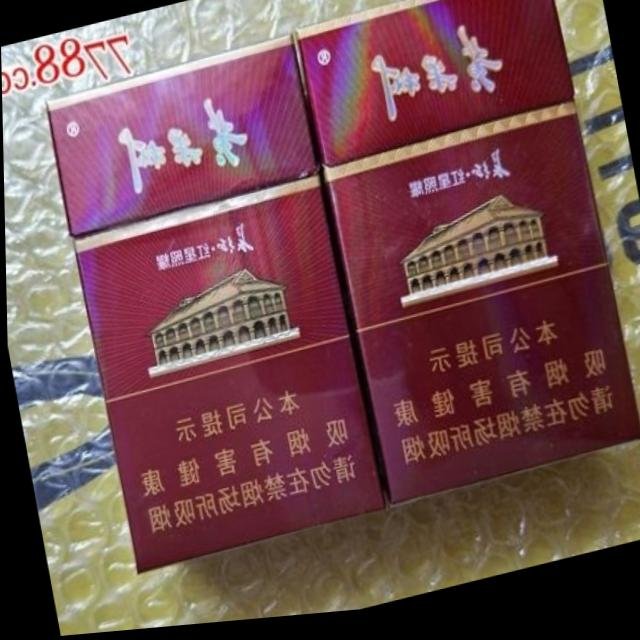box: (44, 42, 383, 577), (292, 0, 640, 512)
